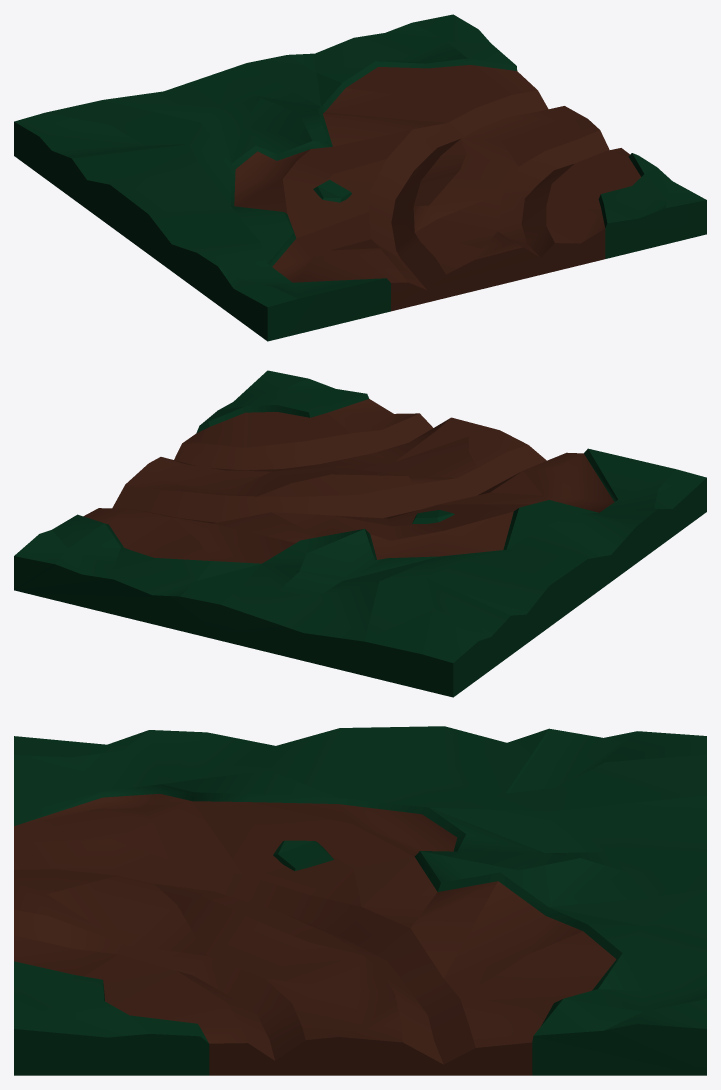
Rendered from Ground_Road_Turn_LU.fbx.
3 views of the same model, one above another, from view 1: azimuth 30°, elevation 25°; view 2: azimuth 150°, elevation 25°; view 3: azimuth 270°, elevation 25° (orthographic). The views are drawn at different scales.
Parts seen in each view (by area): view 1: Ground_Road_Turn_LU; view 2: Ground_Road_Turn_LU; view 3: Ground_Road_Turn_LU.
Part boxes in pixels (x1=…): Ground_Road_Turn_LU: x1=14, y1=14, x2=706, y2=341; Ground_Road_Turn_LU: x1=14, y1=370, x2=706, y2=697; Ground_Road_Turn_LU: x1=14, y1=726, x2=706, y2=1075.
Bounding box in the file's own units: 147 × 14.69 × 147.
